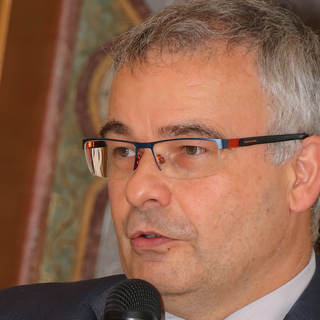eye: (173, 139, 212, 161), (106, 142, 140, 161)
